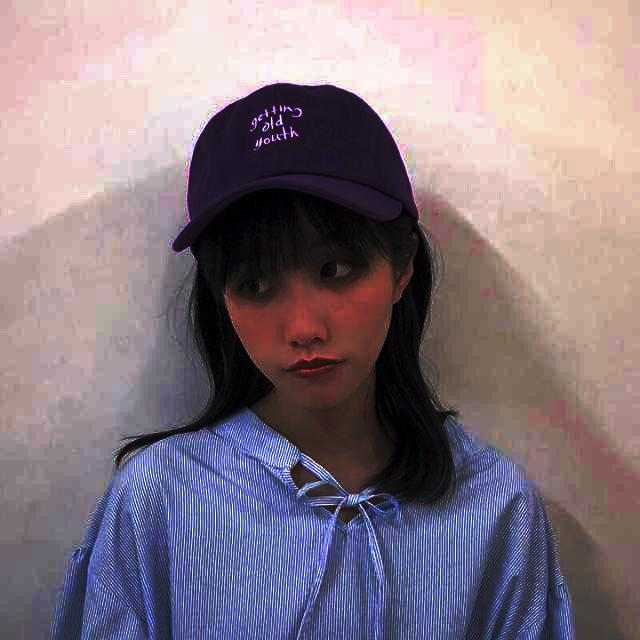TOPI: (176, 83, 418, 255)
